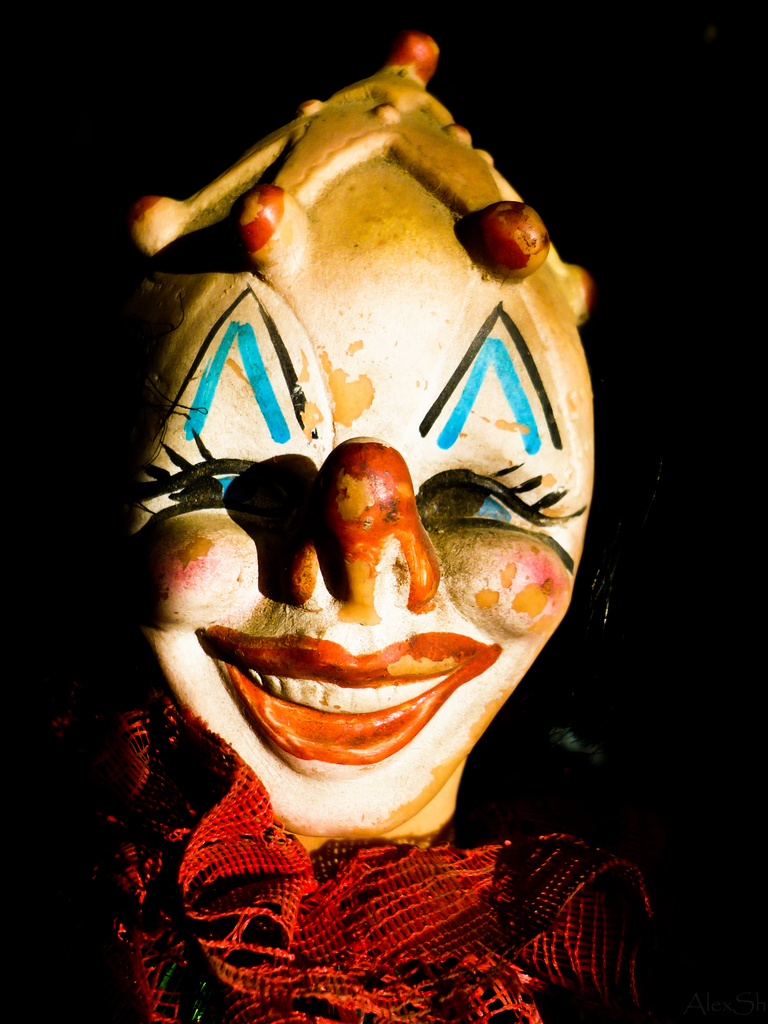Person: (0, 32, 767, 1024)
